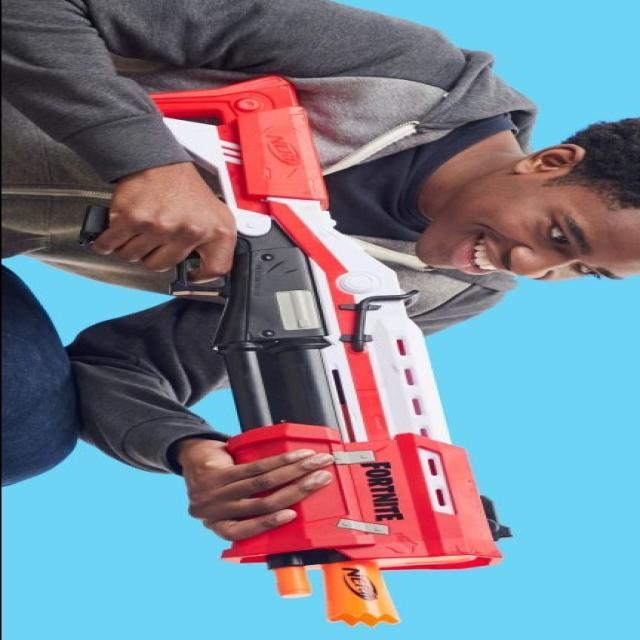Nerf gun: (67, 69, 517, 629)
